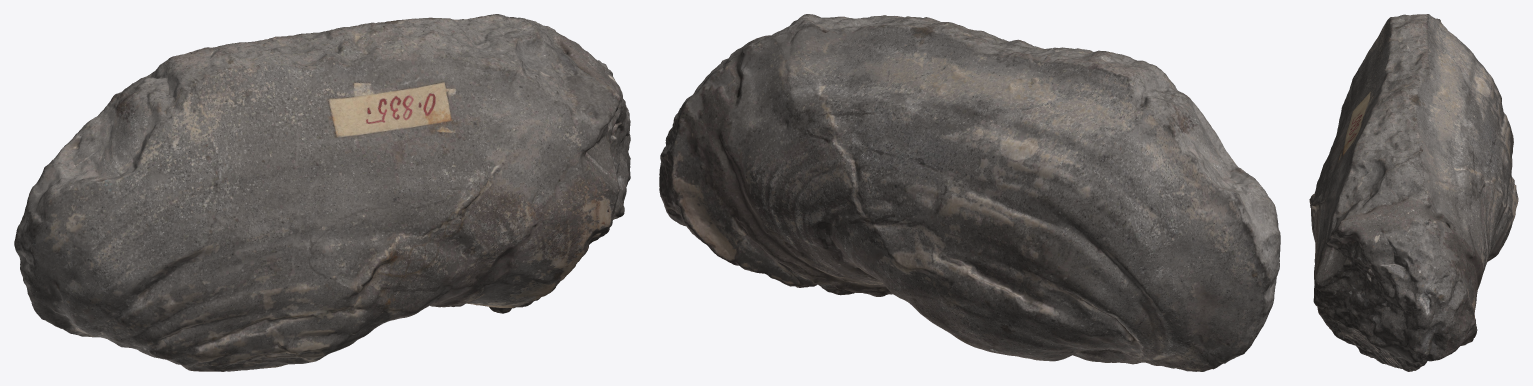
File: EWS0011077.glb
3 renders of one model, left to right at view 1: azimuth 30°, elevation 25°; view 2: azimuth 150°, elevation 25°; view 3: azimuth 270°, elevation 25°, orthographic. The views are drawn at different scales.
Visible parts, largest first — view 1: input; view 2: input; view 3: input.
Part boxes in pixels (<box>): input: <box>14,14,630,371</box>; input: <box>659,14,1280,371</box>; input: <box>1309,14,1518,371</box>.
Size of the model in its own units: 0.1025 by 0.051 by 0.0404.
1 material, 1 textured.
